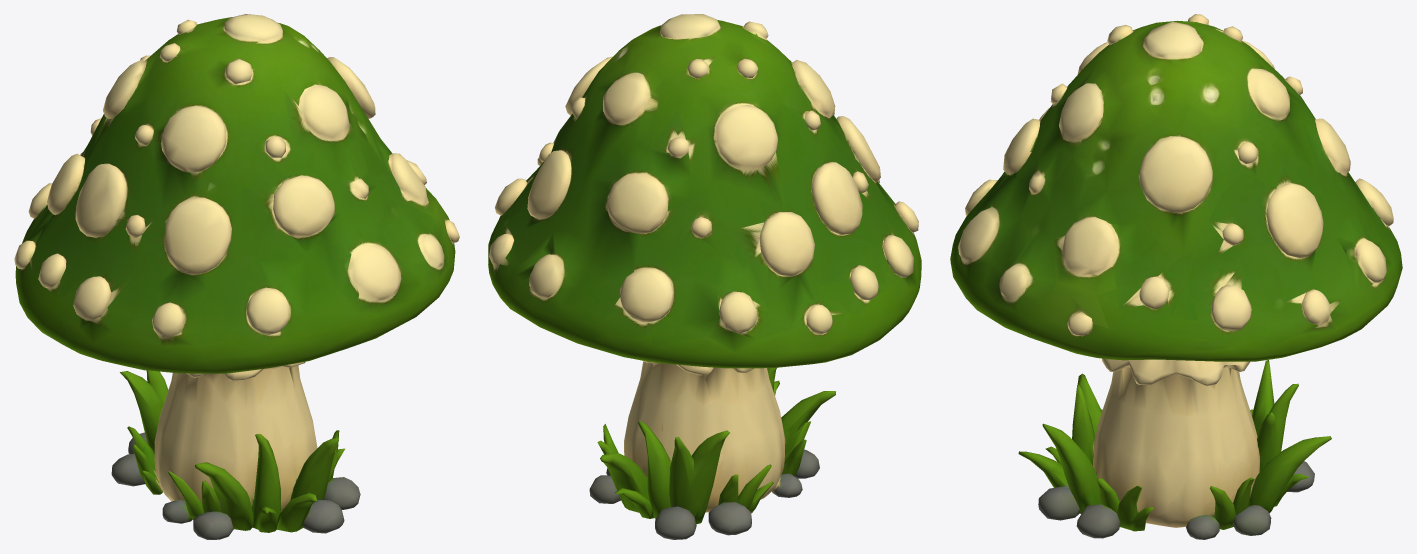
File: shroom_green.glb
3 views of the same model, side by side, from view 1: azimuth 30°, elevation 25°; view 2: azimuth 150°, elevation 25°; view 3: azimuth 270°, elevation 25° (orthographic). The views are drawn at different scales.
Visible parts, largest first — view 1: tripo_node_7c0b42de-13fe-4886-a690-863d87efb3e1; view 2: tripo_node_7c0b42de-13fe-4886-a690-863d87efb3e1; view 3: tripo_node_7c0b42de-13fe-4886-a690-863d87efb3e1.
Part boxes in pixels (<box>): tripo_node_7c0b42de-13fe-4886-a690-863d87efb3e1: <box>14,14,459,539</box>; tripo_node_7c0b42de-13fe-4886-a690-863d87efb3e1: <box>488,14,921,539</box>; tripo_node_7c0b42de-13fe-4886-a690-863d87efb3e1: <box>950,14,1402,539</box>.
Bounding box in the file's own units: 1.27 × 1.5 × 1.29.
Materials: 1 (1 with a texture image).
